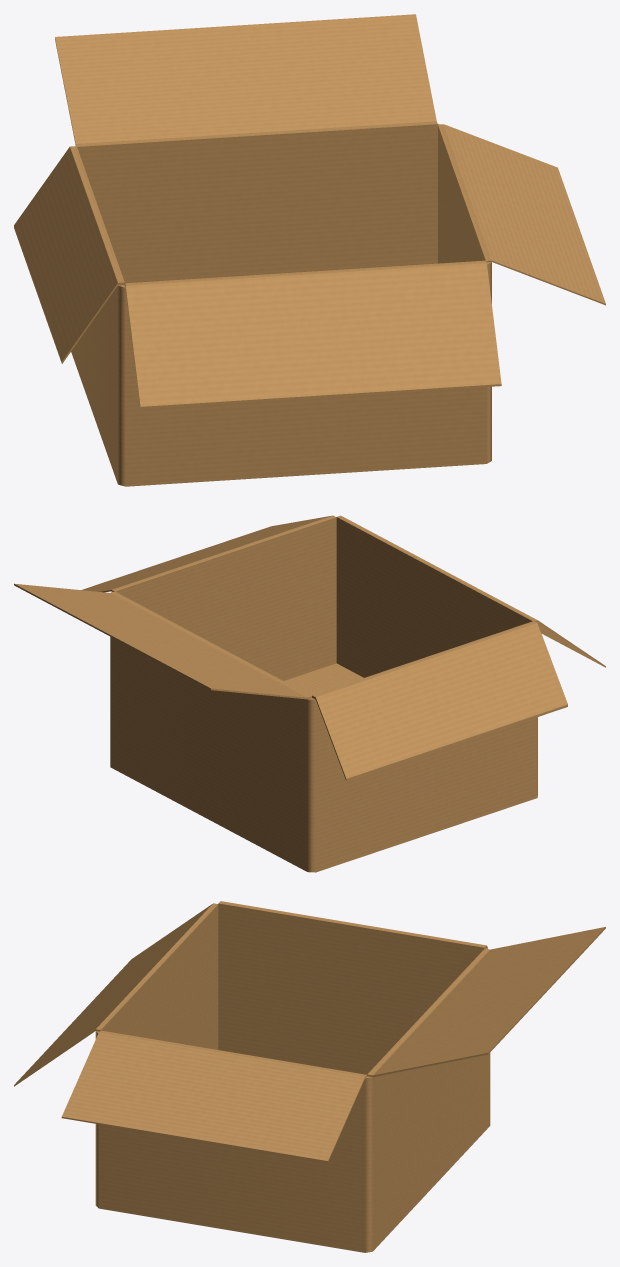
File: box_open.fbx
The picture shows the model from 3 angles, top to bottom: view 1: azimuth 30°, elevation 25°; view 2: azimuth 150°, elevation 25°; view 3: azimuth 270°, elevation 25°; orthographic projection. The views are drawn at different scales.
Visible parts, largest first — view 1: box_open; view 2: box_open; view 3: box_open.
Part boxes in pixels (x1,y1,x2,y2): box_open: [14, 14, 605, 486]; box_open: [14, 515, 605, 872]; box_open: [14, 901, 605, 1252].
Bounding box in the file's own units: 510 × 222 × 545.
1 material, 1 textured.
